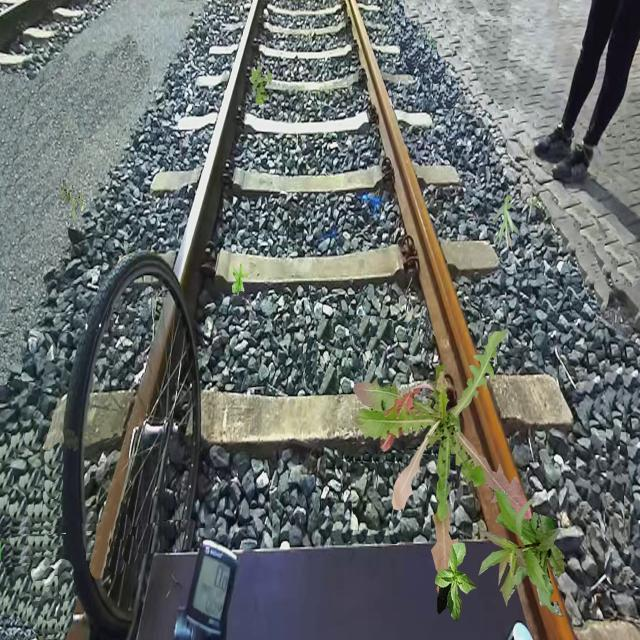Plant: (353, 329, 533, 607), (477, 487, 566, 617), (435, 542, 477, 622), (492, 194, 518, 250), (60, 181, 88, 222), (249, 65, 273, 106), (232, 264, 250, 296)
